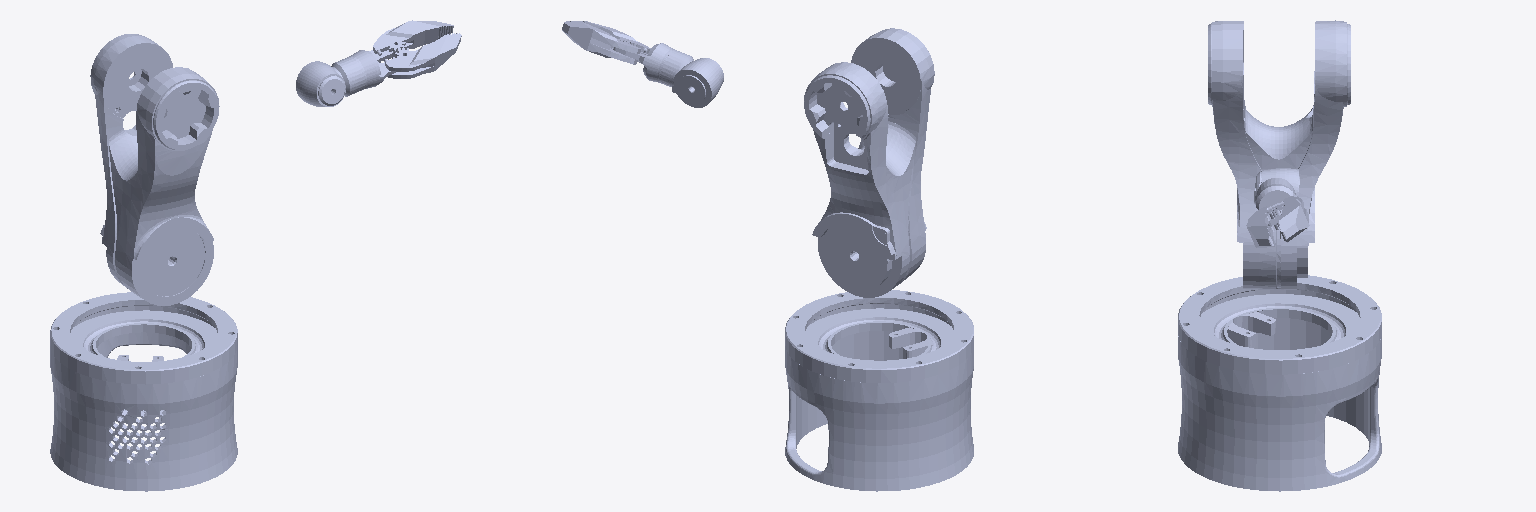
URDF robot description (meca):
<?xml version="1.0" encoding="utf-8"?>
<!-- This URDF was automatically created by SolidWorks to URDF Exporter! Originally created by [author] ([email redacted]) 
     Commit Version: 1.6.0-1-g15f4949  Build Version: 1.6.7594.29634
     For more information, please see http://wiki.ros.org/sw_urdf_exporter -->
<robot
  name="meca">
  <link
    name="base_link">
    <inertial>
      <origin
        xyz="-0.00335076211723148 -0.00500175998501442 0.0750739828489765"
        rpy="0 0 0" />
      <mass
        value="0.591525093756377" />
      <inertia
        ixx="0.00225336798131637"
        ixy="8.69097659569177E-05"
        ixz="-1.77066131452878E-05"
        iyy="0.00232652554668165"
        iyz="-2.83271574033219E-05"
        izz="0.00339521230895551" />
    </inertial>
    <visual>
      <origin
        xyz="0 0 0"
        rpy="0 0 0" />
      <geometry>
        <mesh
          filename="package://meca/meshes/base_link.STL" />
      </geometry>
      <material
        name="">
        <color
          rgba="0.792156862745098 0.819607843137255 0.933333333333333 1" />
      </material>
    </visual>
    <collision>
      <origin
        xyz="0 0 0"
        rpy="0 0 0" />
      <geometry>
        <mesh
          filename="package://meca/meshes/base_link.STL" />
      </geometry>
    </collision>
  </link>
  <link
    name="link_1">
    <inertial>
      <origin
        xyz="0.00224511471197853 -0.00337876956545417 0.0520327906997941"
        rpy="0 0 0" />
      <mass
        value="0.632926458625479" />
      <inertia
        ixx="0.0015129125811509"
        ixy="1.45107511239285E-05"
        ixz="-0.000102354010011357"
        iyy="0.00133411002350941"
        iyz="8.1518245865777E-06"
        izz="0.00123751230497446" />
    </inertial>
    <visual>
      <origin
        xyz="0 0 0"
        rpy="0 0 0" />
      <geometry>
        <mesh
          filename="package://meca/meshes/link_1.STL" />
      </geometry>
      <material
        name="">
        <color
          rgba="0.792156862745098 0.819607843137255 0.933333333333333 1" />
      </material>
    </visual>
    <collision>
      <origin
        xyz="0 0 0"
        rpy="0 0 0" />
      <geometry>
        <mesh
          filename="package://meca/meshes/link_1.STL" />
      </geometry>
    </collision>
  </link>
  <joint
    name="joint_1"
    type="revolute">
    <origin
      xyz="0 0 0.107"
      rpy="0 0 0" />
    <parent
      link="base_link" />
    <child
      link="link_1" />
    <axis
      xyz="0 0 1" />
    <limit
      lower="0"
      upper="0"
      effort="0"
      velocity="0" />
  </joint>
  <link
    name="link_2">
    <inertial>
      <origin
        xyz="-0.00341859585568687 -0.00355314877063421 0.0634582036223429"
        rpy="0 0 0" />
      <mass
        value="0.784820206565315" />
      <inertia
        ixx="0.00306291369417947"
        ixy="-3.90510667437629E-06"
        ixz="5.20701488266255E-05"
        iyy="0.00292469321026913"
        iyz="1.47478140233709E-06"
        izz="0.000773966903530111" />
    </inertial>
    <visual>
      <origin
        xyz="0 0 0"
        rpy="0 0 0" />
      <geometry>
        <mesh
          filename="package://meca/meshes/link_2.STL" />
      </geometry>
      <material
        name="">
        <color
          rgba="0.792156862745098 0.819607843137255 0.933333333333333 1" />
      </material>
    </visual>
    <collision>
      <origin
        xyz="0 0 0"
        rpy="0 0 0" />
      <geometry>
        <mesh
          filename="package://meca/meshes/link_2.STL" />
      </geometry>
    </collision>
  </link>
  <joint
    name="joint_2"
    type="revolute">
    <origin
      xyz="0.012628 -0.0010093 0.092513"
      rpy="0 0 0" />
    <parent
      link="link_1" />
    <child
      link="link_2" />
    <axis
      xyz="0.0033965 0.99999 0" />
    <limit
      lower="0"
      upper="0"
      effort="0"
      velocity="0" />
  </joint>
  <link
    name="link_3">
    <inertial>
      <origin
        xyz="0.0606142738452736 0.00100460222666598 -0.018105957478947"
        rpy="0 0 0" />
      <mass
        value="0.637900215233379" />
      <inertia
        ixx="0.000381649026707703"
        ixy="8.22259903793341E-06"
        ixz="7.54956713974498E-05"
        iyy="0.000761307408194591"
        iyz="9.04730657940958E-07"
        izz="0.00074976933002169" />
    </inertial>
    <visual>
      <origin
        xyz="0 0 0"
        rpy="0 0 0" />
      <geometry>
        <mesh
          filename="package://meca/meshes/link_3.STL" />
      </geometry>
      <material
        name="">
        <color
          rgba="0.698039215686274 0.698039215686274 0.698039215686274 1" />
      </material>
    </visual>
    <collision>
      <origin
        xyz="0 0 0"
        rpy="0 0 0" />
      <geometry>
        <mesh
          filename="package://meca/meshes/link_3.STL" />
      </geometry>
    </collision>
  </link>
  <joint
    name="joint_3"
    type="revolute">
    <origin
      xyz="-0.0013077 0 0.15749"
      rpy="0 0 0" />
    <parent
      link="link_2" />
    <child
      link="link_3" />
    <axis
      xyz="0.0033965 0.99999 0" />
    <limit
      lower="0"
      upper="0"
      effort="0"
      velocity="0" />
  </joint>
  <link
    name="link_4">
    <inertial>
      <origin
        xyz="0.0453463410122961 -0.00397944404055553 0.00919728617548854"
        rpy="0 0 0" />
      <mass
        value="0.105408151014236" />
      <inertia
        ixx="1.37622747964301E-05"
        ixy="1.83452841779348E-06"
        ixz="-2.91457899795746E-06"
        iyy="3.24393916184509E-05"
        iyz="2.03283299821667E-07"
        izz="3.24115932824346E-05" />
    </inertial>
    <visual>
      <origin
        xyz="0 0 0"
        rpy="0 0 0" />
      <geometry>
        <mesh
          filename="package://meca/meshes/link_4.STL" />
      </geometry>
      <material
        name="">
        <color
          rgba="0.792156862745098 0.819607843137255 0.933333333333333 1" />
      </material>
    </visual>
    <collision>
      <origin
        xyz="0 0 0"
        rpy="0 0 0" />
      <geometry>
        <mesh
          filename="package://meca/meshes/link_4.STL" />
      </geometry>
    </collision>
  </link>
  <joint
    name="joint_4"
    type="revolute">
    <origin
      xyz="0.17472 0 -0.036389"
      rpy="0 0 0.068039" />
    <parent
      link="link_3" />
    <child
      link="link_4" />
    <axis
      xyz="0.059205 0.9908 -0.1217" />
    <limit
      lower="0"
      upper="0"
      effort="0"
      velocity="0" />
  </joint>
</robot>

--- Facts derived from the render (not from the file) ---
3 views of the same robot in one strip: view 1: azimuth 30°, elevation 25°; view 2: azimuth 150°, elevation 25°; view 3: azimuth 270°, elevation 25° (orthographic).
Robot: meca — 5 links, 4 joints (4 revolute); root link base_link; default pose: every joint at zero.
Visible links, largest first — view 1: base_link, link_2, link_4; view 2: base_link, link_2, link_4; view 3: base_link, link_2, link_4.
Boxes of the visible links, x1,y1,x2,y2 form: base_link: (50,292,237,491); link_2: (90,34,219,305); link_4: (296,20,461,106); base_link: (785,290,973,491); link_2: (804,28,934,297); link_4: (562,21,723,107); base_link: (1178,275,1381,491); link_2: (1208,20,1350,289); link_4: (1246,168,1309,247).
Size in the robot's own frame: 0.4124 by 0.17 by 0.3936 metres.
3 mesh visuals loaded from 5 distinct referenced files (3 binary STL); not drawn: 2 (reference not matched to a file when rendering).